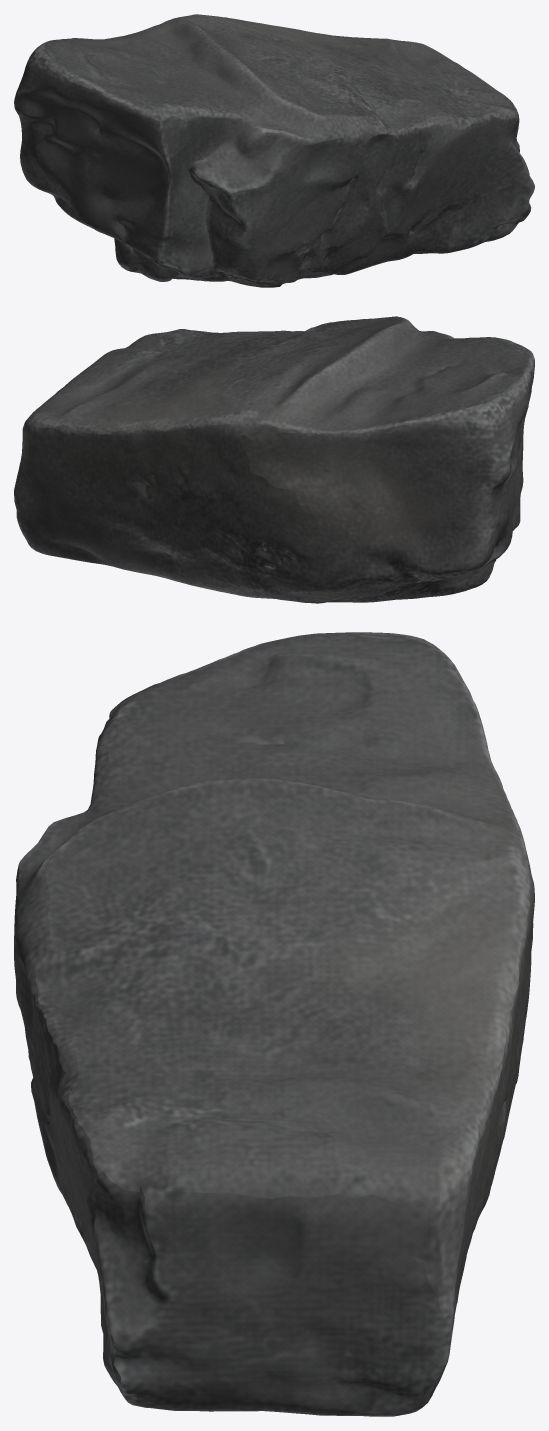
3 views of the same model, one above another, from view 1: azimuth 30°, elevation 25°; view 2: azimuth 150°, elevation 25°; view 3: azimuth 270°, elevation 25° (orthographic). The views are drawn at different scales.
Parts seen in each view (by area): view 1: world; view 2: world; view 3: world.
Part boxes in pixels (x1=…): world: x1=14, y1=14, x2=534, y2=287; world: x1=14, y1=316, x2=534, y2=603; world: x1=14, y1=632, x2=534, y2=1416.
Size of the model in its own units: 3.5 by 1.76 by 1.96.
Materials: 1 (1 with a texture image).
